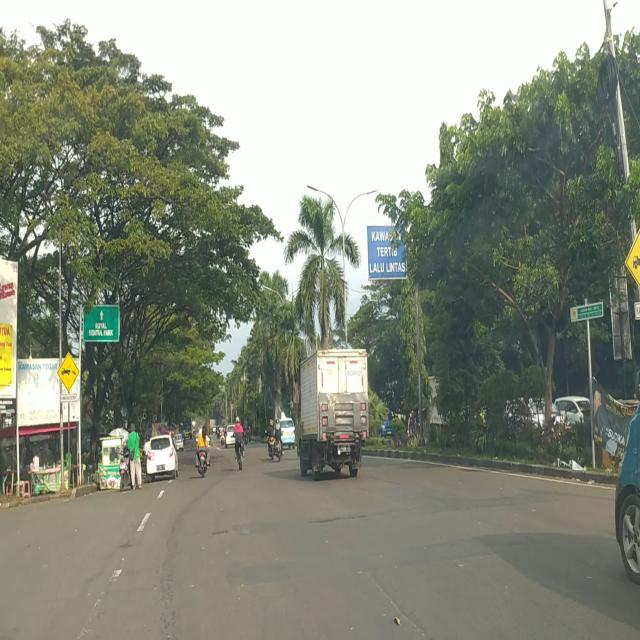Sewer Cover: (302, 509, 393, 529), (206, 528, 230, 537)
